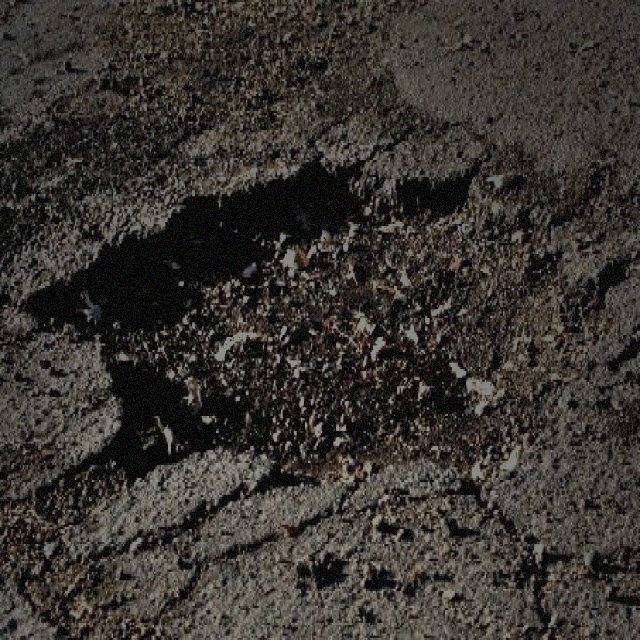pothole: (21, 154, 620, 488)
